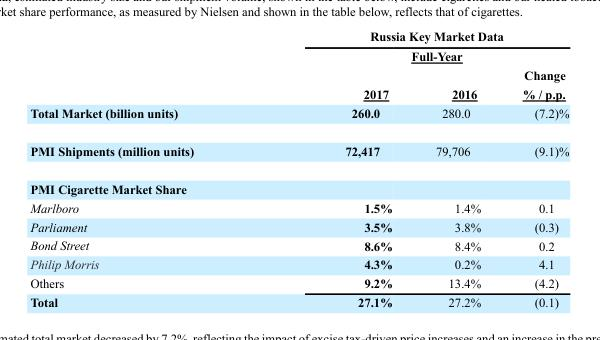table: (29, 28, 568, 309)
table column: (29, 28, 268, 309), (268, 28, 413, 309), (413, 28, 501, 309), (501, 28, 568, 309)
table column header: (29, 28, 568, 103)
table projected row header: (29, 169, 568, 197)
table row: (29, 65, 568, 103), (29, 131, 568, 169), (29, 28, 568, 65), (29, 103, 568, 131), (29, 169, 568, 197), (29, 197, 568, 216), (29, 216, 568, 235), (29, 235, 568, 254), (29, 254, 568, 273), (29, 273, 568, 292), (29, 292, 568, 309)
table spanning cell: (268, 28, 568, 65)
